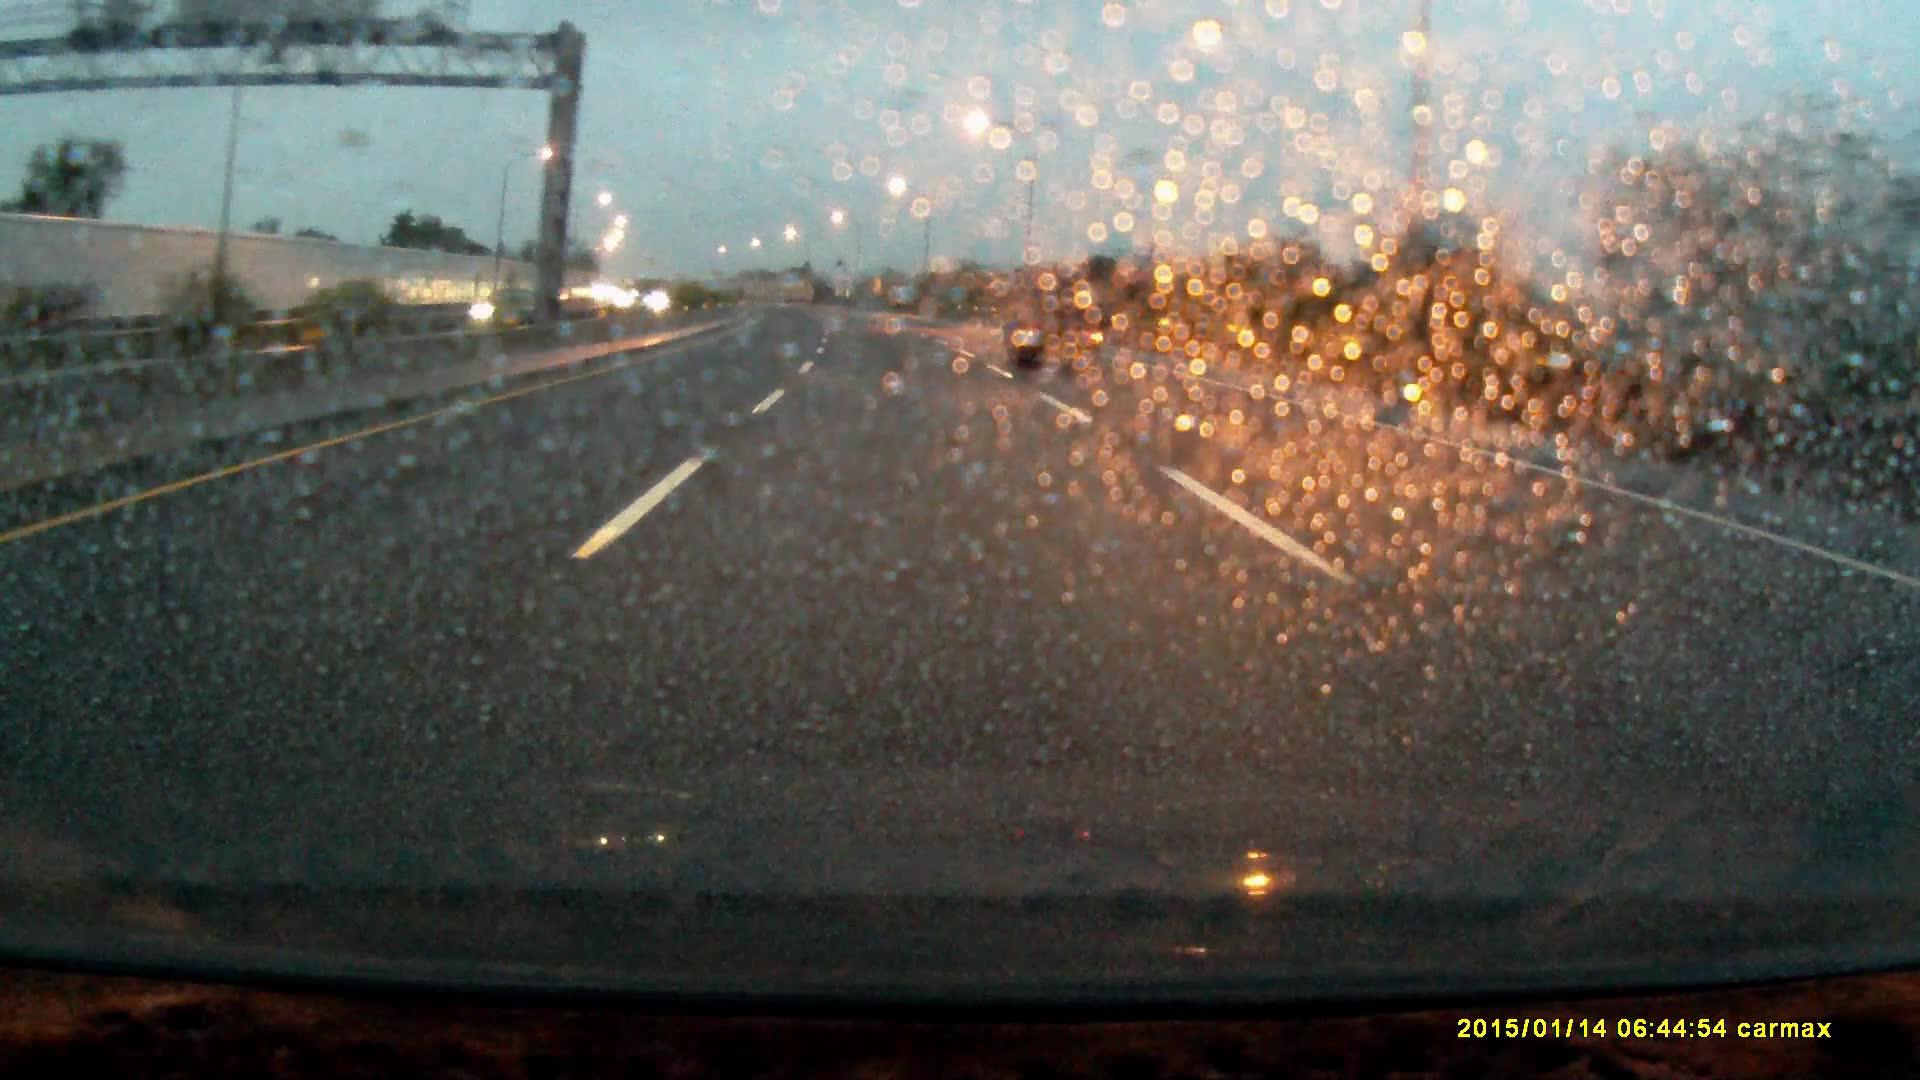vehicle: (1009, 276, 1100, 369)
